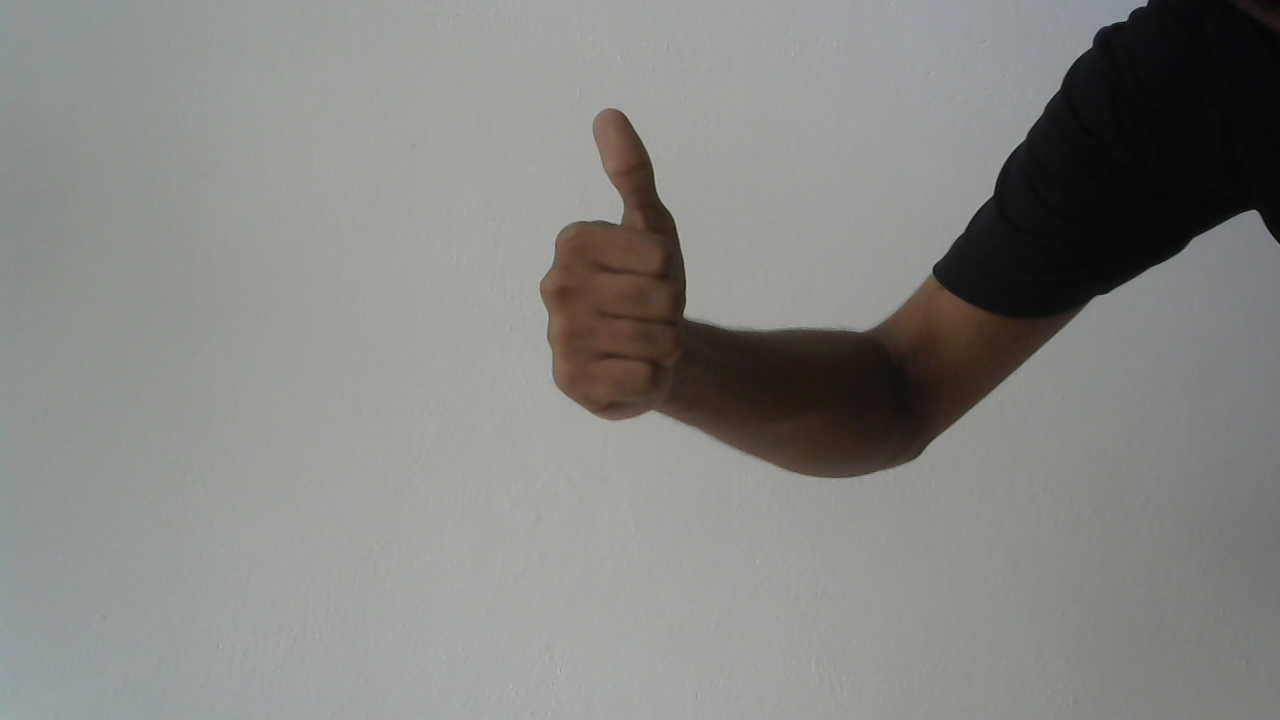thumbsup: (527, 87, 705, 454)
